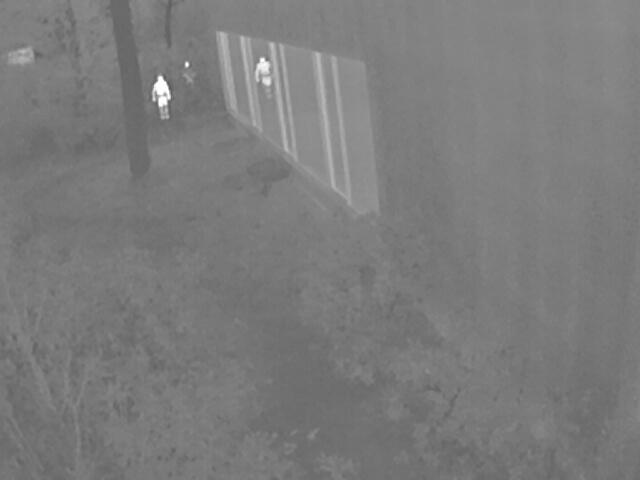person: (151, 74, 170, 120), (253, 55, 271, 98)
